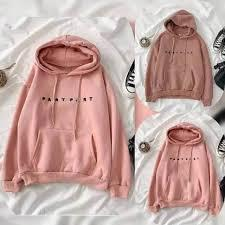sweater: (1, 34, 136, 199), (142, 122, 225, 216), (144, 11, 218, 107)
